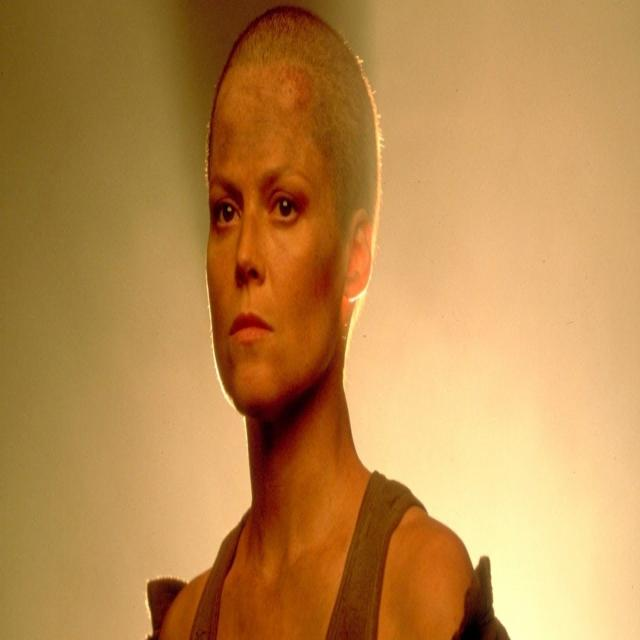no_helmet: (191, 0, 396, 212)
